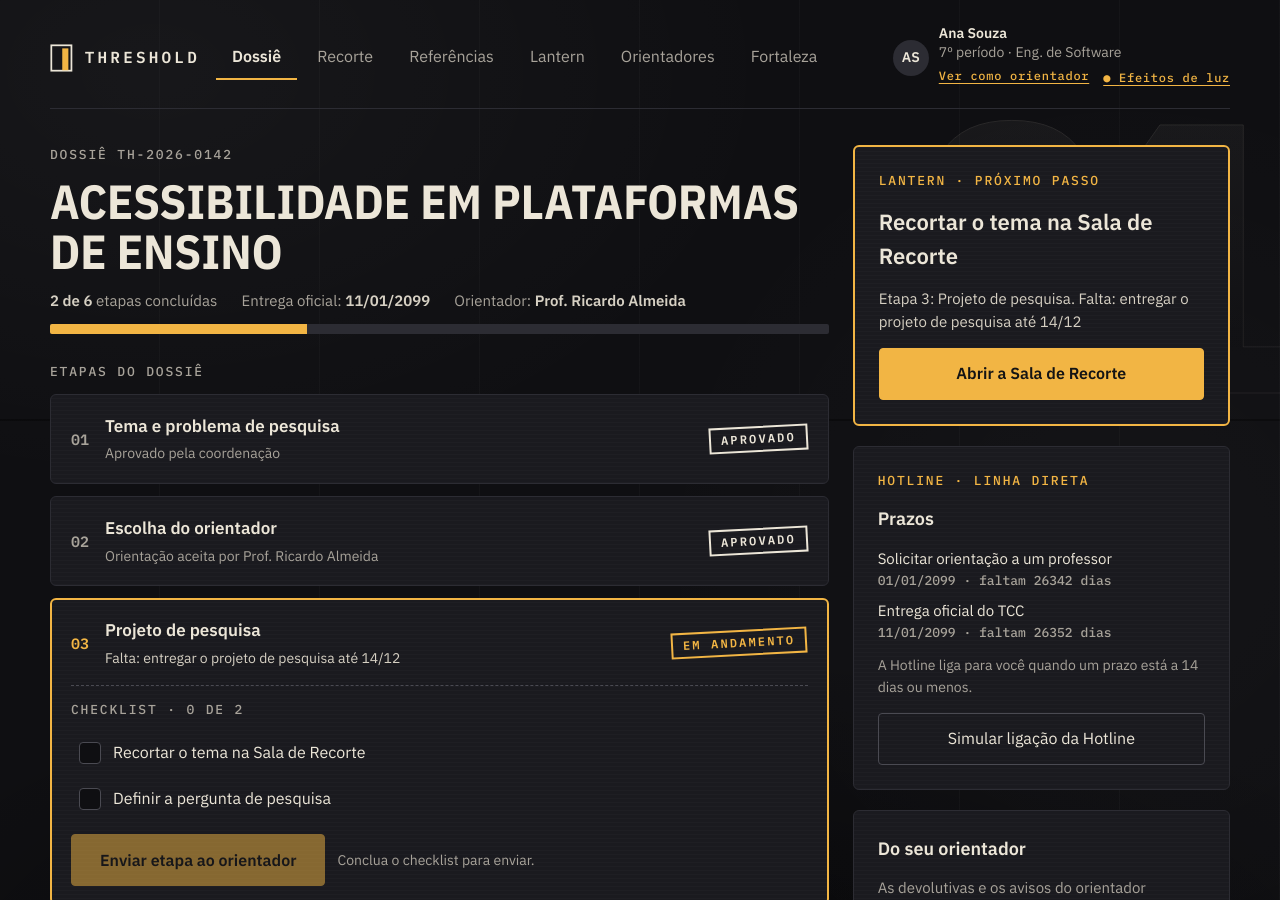
Scenario: Dossiê › a etapa só pode ser enviada ao orientador com o checklist completo
Check: the button "Enviar etapa ao orientador" is disabled, box [71,834,325,886]
Click the checkbox labelled "Recortar o tema na Sala de Recorte" at (90, 753), box [79,742,101,764]
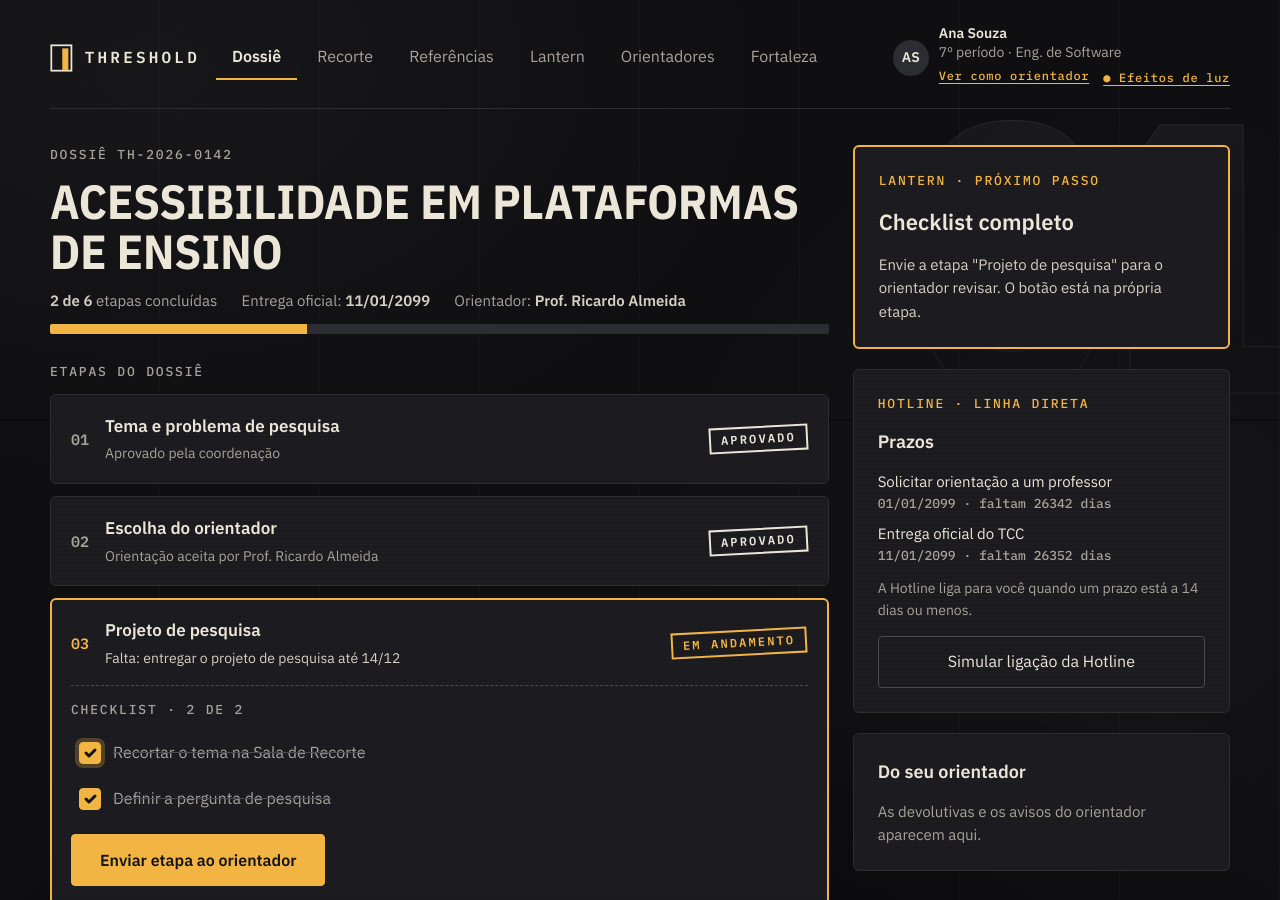
Click the button "Enviar etapa ao orientador" at (198, 860), box [71,834,325,886]
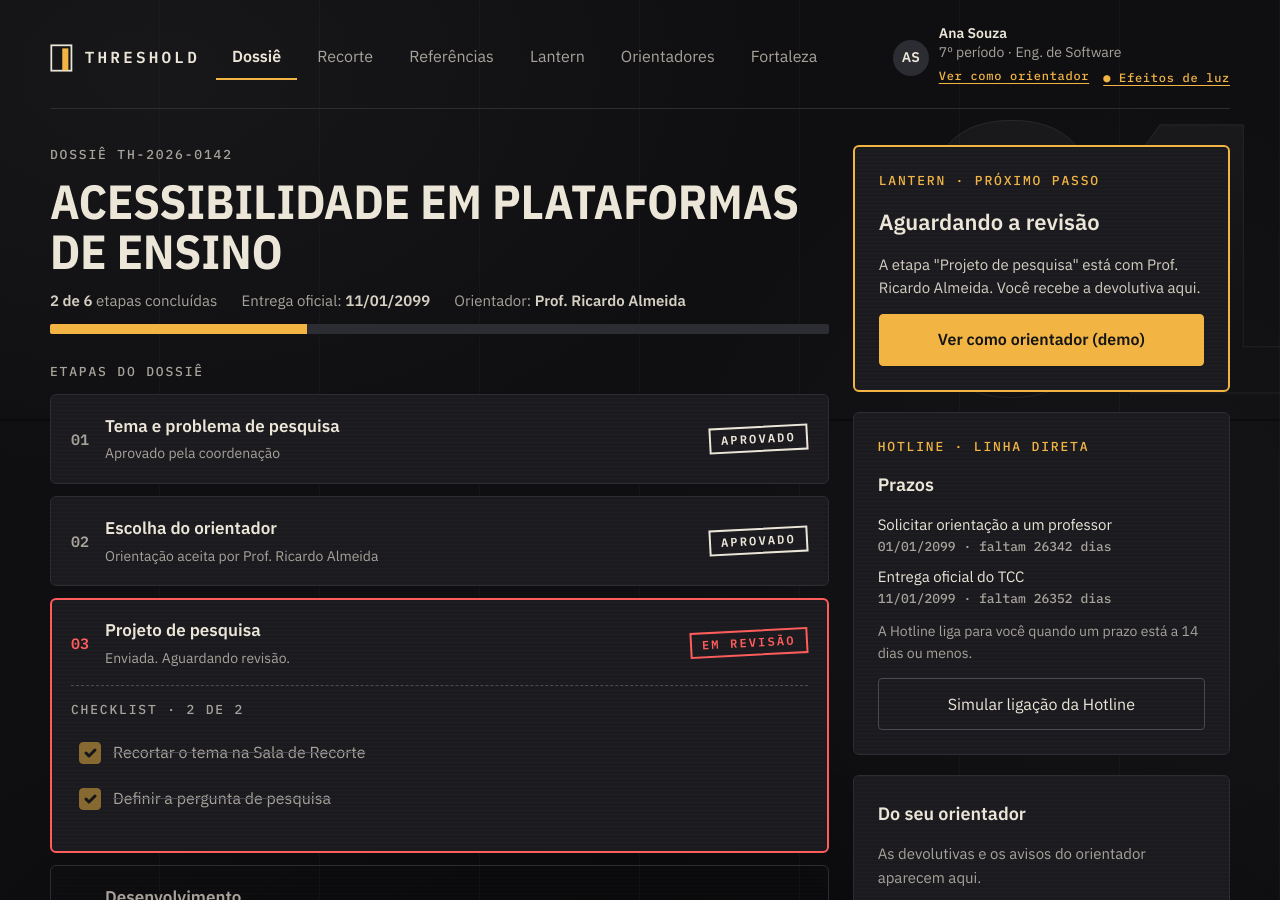
Check: the text "Em revisão" is shown, box [689,627,808,659]
Check: the heading "Aguardando a revisão" is shown, box [879,207,1100,236]
